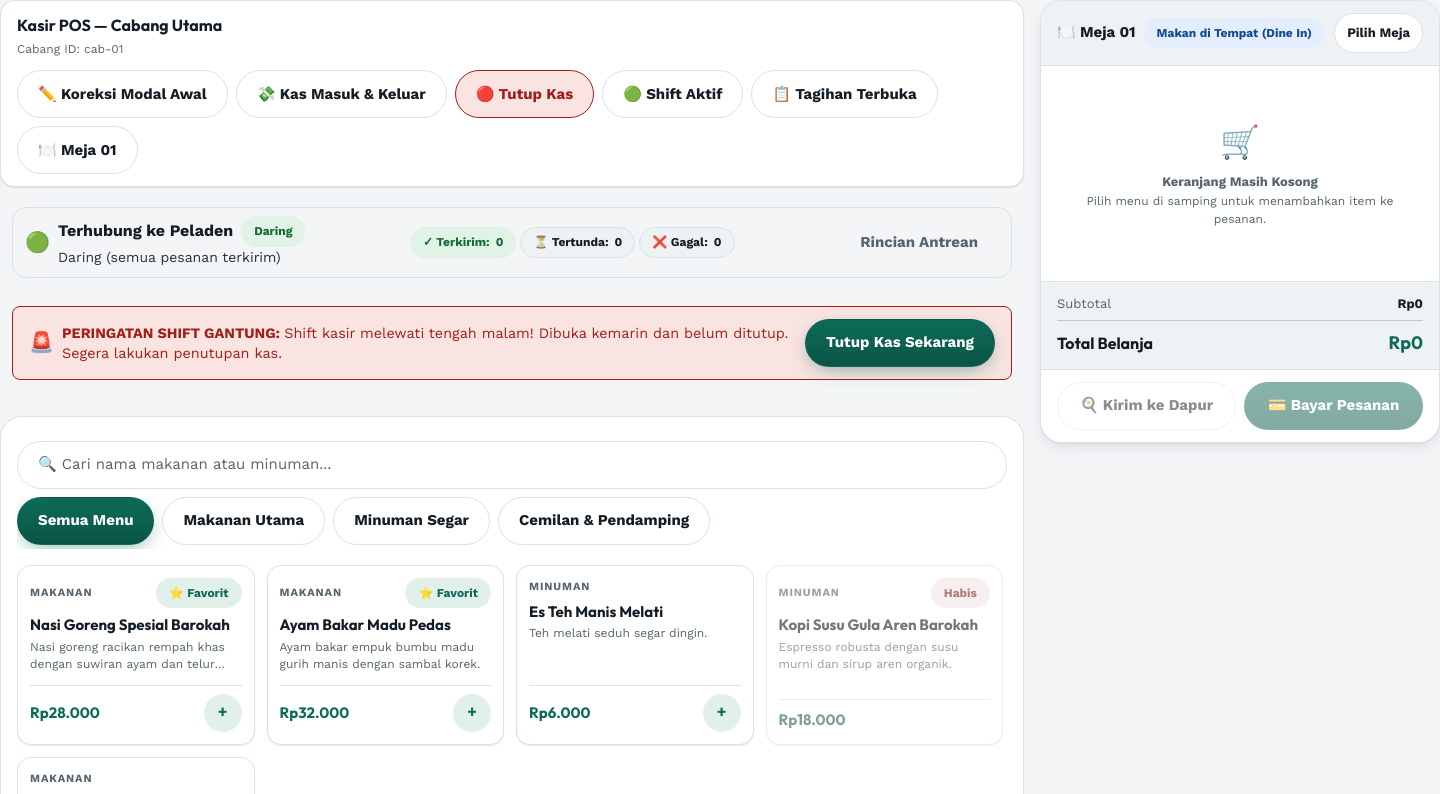
it: LayarKasir POS (T3-01 s/d T3-16) › menampilkan tombol Kas Masuk & Keluar saat ada shift aktif dan membuka dialog pergerakan kas (T7-03)
Click the button "💸 Kas Masuk & Keluar". click: (341, 94)
box: [236,70,447,118]
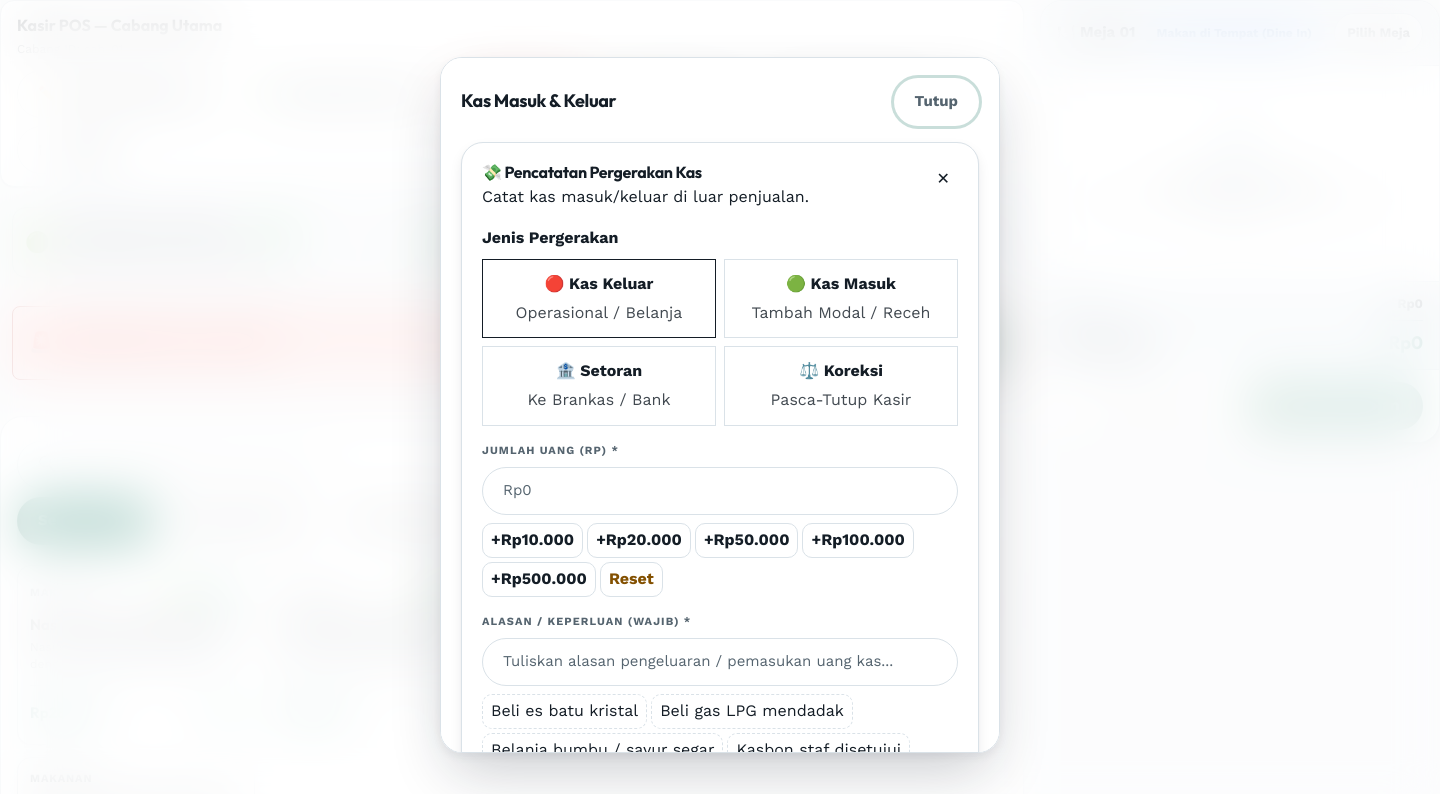
Expected: the heading "💸 Pencatatan Pergerakan Kas" is shown, [482,162,702,182]
Expected: the button with test id "pilih-jenis-keluar" is shown, [482,259,716,338]
